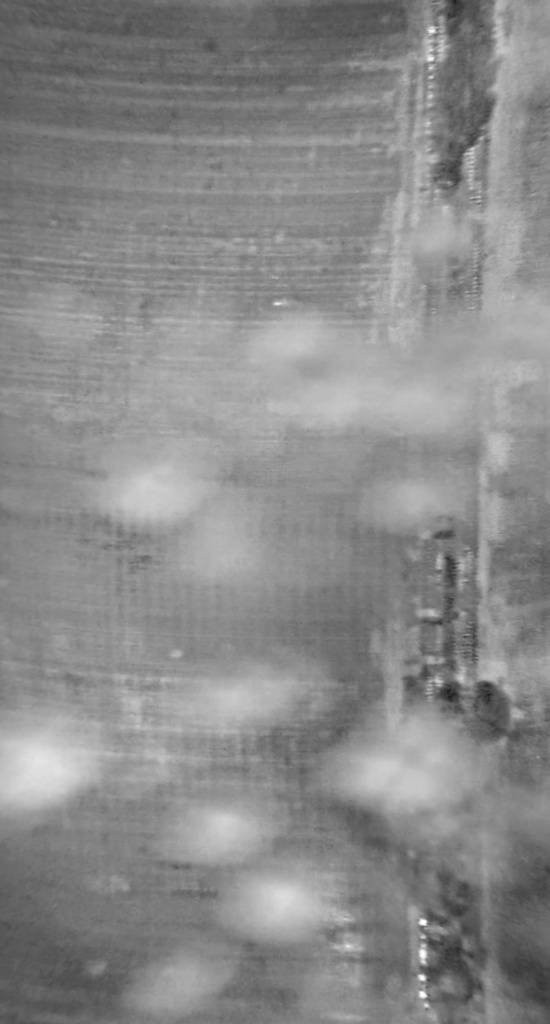splice: (414, 1, 501, 1023)
